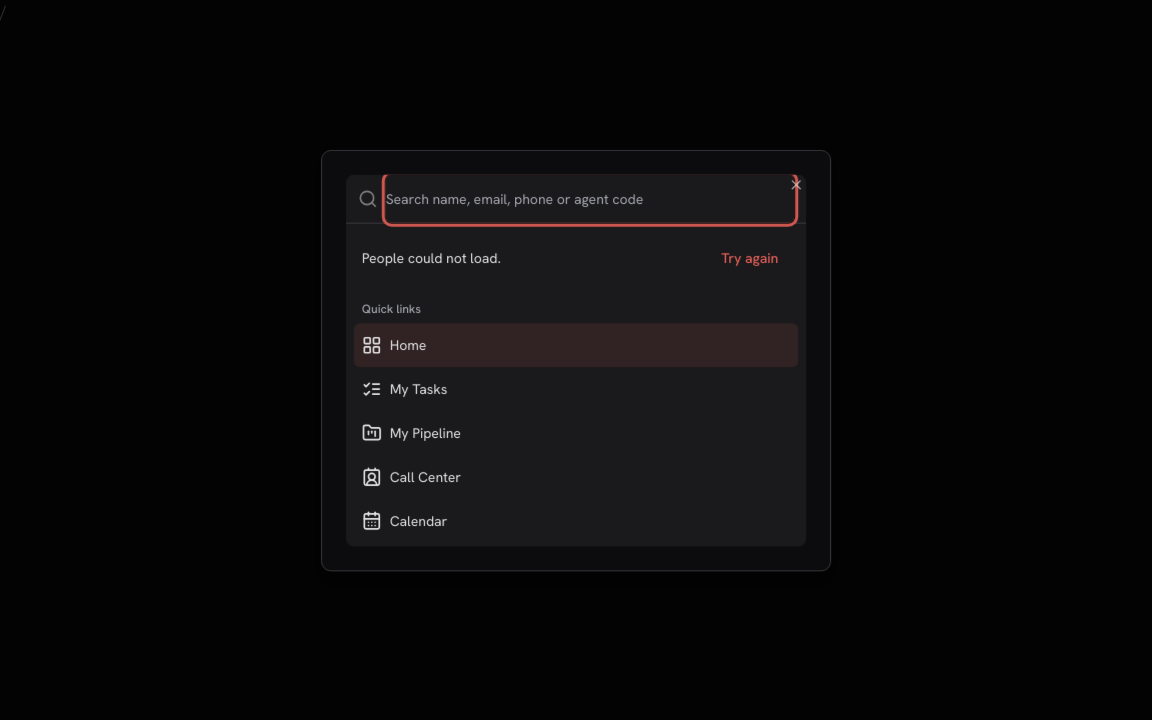
Test: Shared people search › shows failures even with page matches and retries thrown network errors
Expected: the message "People could not load. Try again" is shown, [345,223,807,291]
Expected: the text "Quick links" is shown, [361,301,420,317]
Click the button "Try again": (750, 257) [710,235,791,279]
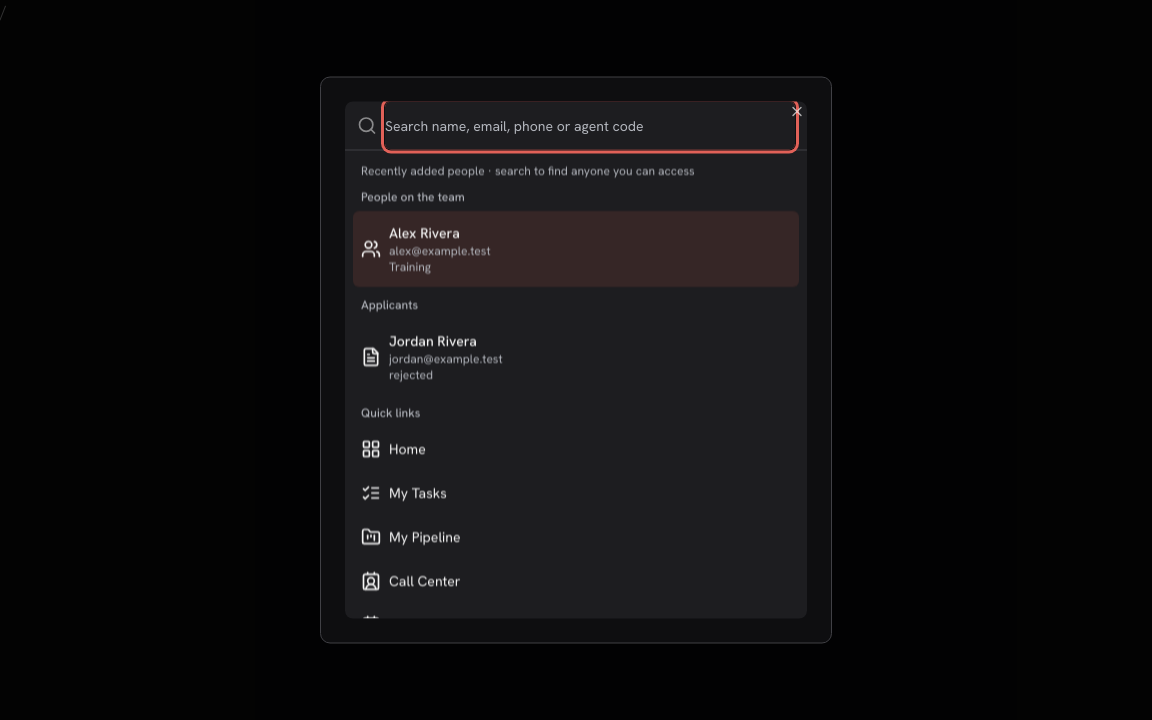
Expected: the text "Alex Rivera" is shown, [389,224,460,242]
Expected: the message "People could not load. Try again" is gone
